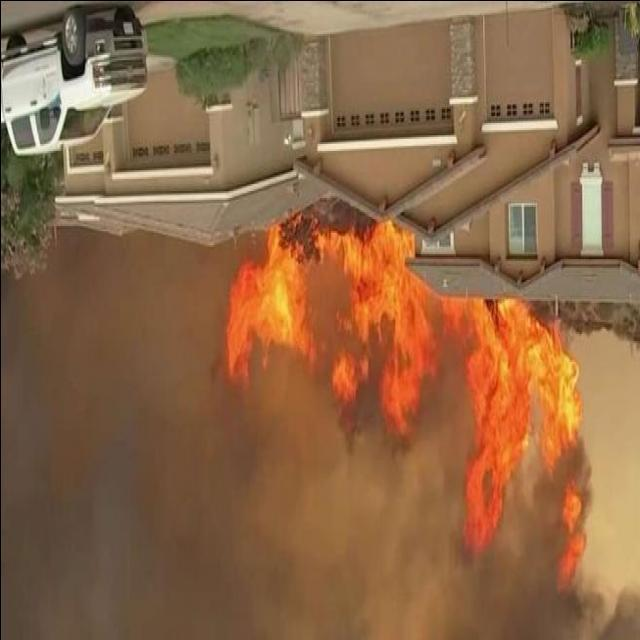Fire: (226, 214, 588, 580)
